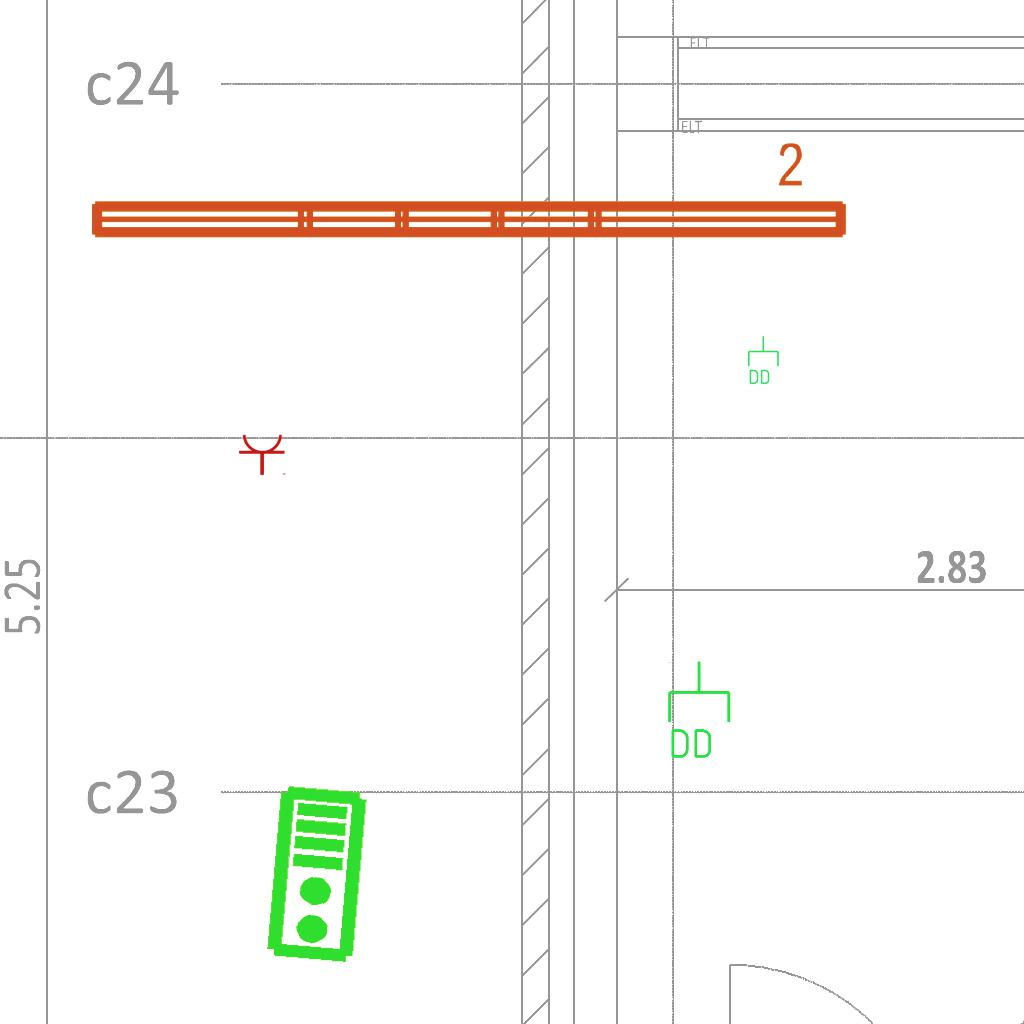Ambulanz_Pendelleuchte_LED: (81, 138, 855, 250)
Datenanschluss_zweifach: (664, 659, 733, 762), (746, 335, 780, 386)
Gegensprechanlage_mit_Video: (263, 783, 374, 967)
Schukosteckdose_einfach: (238, 433, 288, 476)
